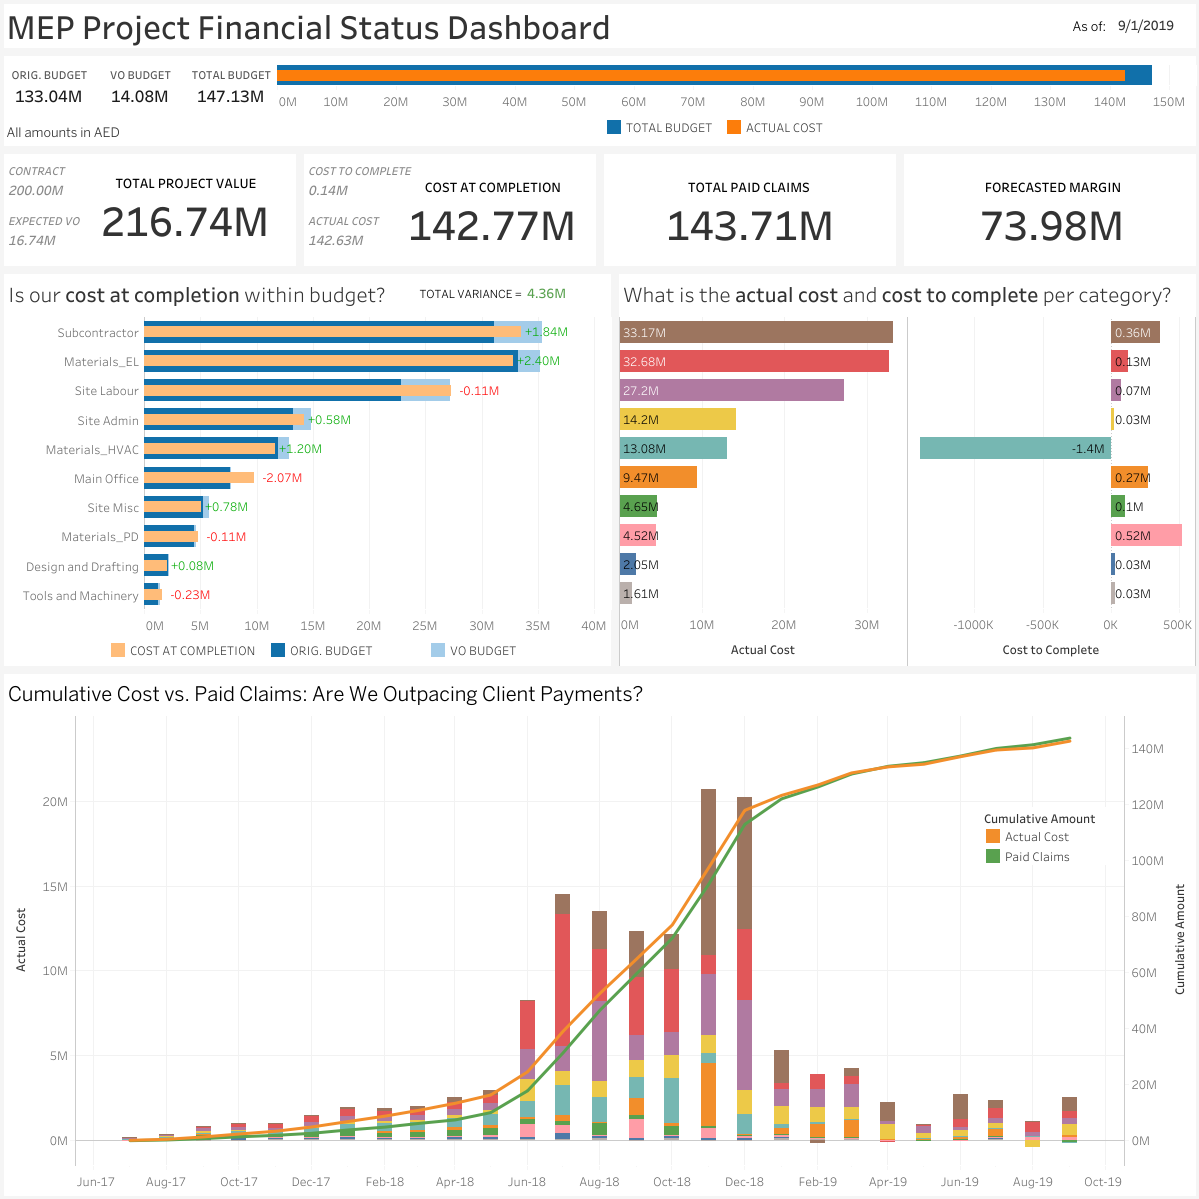

What the dashboard file says about the page in this screenshot:
{"tool":"tableau","page":{"name":"Proj_Final","canvas":[1200,1200],"ordinal":0},"visuals":[{"type":"text","box":[0,0,1200,52]},{"type":"text","box":[1045,11,65,30]},{"type":"worksheet","title":"Date","mark":"Text","box":[1112,15,83,22]},{"type":"blank","box":[4,56,280,90]},{"type":"blank","box":[284,56,912,90]},{"type":"worksheet","title":"Budget","mark":"Automatic","box":[4,64,273,43]},{"type":"worksheet","title":"Budg_vs_Cost","mark":"Bar","cols":["Total Budget","Actual Cost"],"box":[277,65,919,75]},{"type":"text","box":[4,117,177,30]},{"type":"legend","title":"Budg_vs_Cost","param":"[federated.02gvoz4029bodc12l8g411tdh6ij].[:Measure Names]","box":[604,117,242,23]},{"type":"blank","box":[0,150,300,120]},{"type":"blank","box":[300,150,300,120]},{"type":"blank","box":[600,150,300,120]},{"type":"blank","box":[900,150,300,120]},{"type":"worksheet","title":"Contract","mark":"Text","box":[4,160,90,40]},{"type":"worksheet","title":"CTC","mark":"Automatic","box":[304,160,117,40]},{"type":"worksheet","title":"Tot_cont","mark":"Automatic","box":[96,172,188,76]},{"type":"worksheet","title":"Tot_cost","mark":"Text","box":[403,176,188,76]},{"type":"worksheet","title":"Paid","mark":"Automatic","box":[659,176,185,76]},{"type":"worksheet","title":"Margin","mark":"Automatic","box":[973,176,162,76]},{"type":"worksheet","title":"VO","mark":"Text","box":[4,210,90,40]},{"type":"worksheet","title":"ACost","mark":"Automatic","box":[304,210,90,40]},{"type":"worksheet","title":"Variance","mark":"Bar","rows":["Cost Category"],"cols":["Cost at Completion"],"box":[0,270,615,400]},{"type":"worksheet","title":"Cost_dist","mark":"Automatic","rows":["Cost Category"],"cols":["Actual Cost (variance.csv)","Cost to Completion"],"box":[615,270,585,400]},{"type":"text","box":[417,282,106,23]},{"type":"worksheet","title":"Tot_variance","mark":"Automatic","box":[523,283,56,22]},{"type":"legend","title":"Variance","param":"[federated.02gvoz4029bodc12l8g411tdh6ij].[:Measure Names]","box":[108,640,501,21]},{"type":"worksheet","title":"Cost_Claims","mark":"Bar","rows":["Actual Cost"],"cols":["Date_2"],"box":[0,670,1200,530]},{"type":"legend","title":"Cost_Claims","param":"[federated.1e8hgw30le73ar1fo5s460cyscyi].[:Measure Names]","box":[983,807,140,58]}]}

Visuals, with their boxes in screenshot pixels (x1, y1, x2, y2), scaled from the page's 1200x1200 canvas onto the 1199x1199 screenshot:
text: [0, 0, 1198, 52]
text: [1044, 11, 1109, 41]
"Date" worksheet (Text marks): [1111, 15, 1194, 37]
blank: [4, 56, 284, 146]
blank: [284, 56, 1195, 146]
"Budget" worksheet: [4, 64, 277, 107]
"Budg_vs_Cost" worksheet (Bar marks): [277, 65, 1195, 140]
text: [4, 117, 181, 147]
"Budg_vs_Cost" legend: [603, 117, 845, 140]
blank: [0, 150, 300, 270]
blank: [300, 150, 600, 270]
blank: [600, 150, 899, 270]
blank: [899, 150, 1198, 270]
"Contract" worksheet (Text marks): [4, 160, 94, 200]
"CTC" worksheet: [304, 160, 421, 200]
"Tot_cont" worksheet: [96, 172, 284, 248]
"Tot_cost" worksheet (Text marks): [403, 176, 591, 252]
"Paid" worksheet: [658, 176, 843, 252]
"Margin" worksheet: [972, 176, 1134, 252]
"VO" worksheet (Text marks): [4, 210, 94, 250]
"ACost" worksheet: [304, 210, 394, 250]
"Variance" worksheet (Bar marks): [0, 270, 614, 669]
"Cost_dist" worksheet: [614, 270, 1198, 669]
text: [417, 282, 523, 305]
"Tot_variance" worksheet: [523, 283, 579, 305]
"Variance" legend: [108, 639, 608, 660]
"Cost_Claims" worksheet (Bar marks): [0, 669, 1198, 1198]
"Cost_Claims" legend: [982, 806, 1122, 864]
